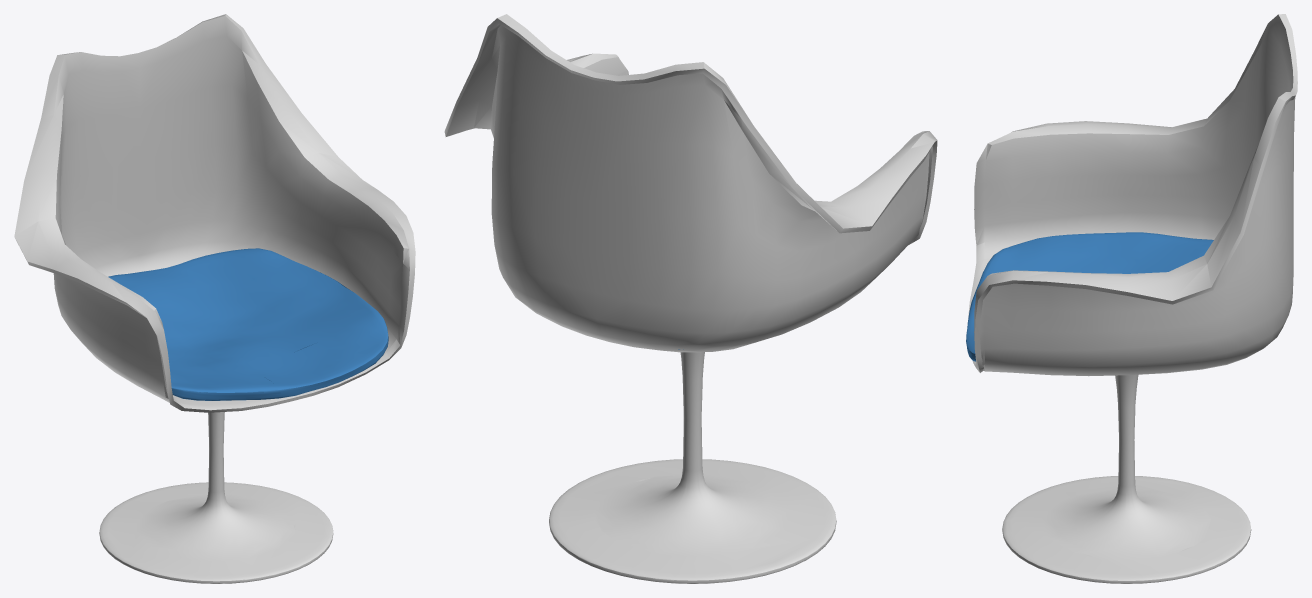
File: sh_blend_swap_cc_0_designchair.glb
3 renders of one model, left to right at view 1: azimuth 30°, elevation 25°; view 2: azimuth 150°, elevation 25°; view 3: azimuth 270°, elevation 25°, orthographic. The views are drawn at different scales.
Size of the model in its own units: 0.779 by 0.994 by 0.628.
